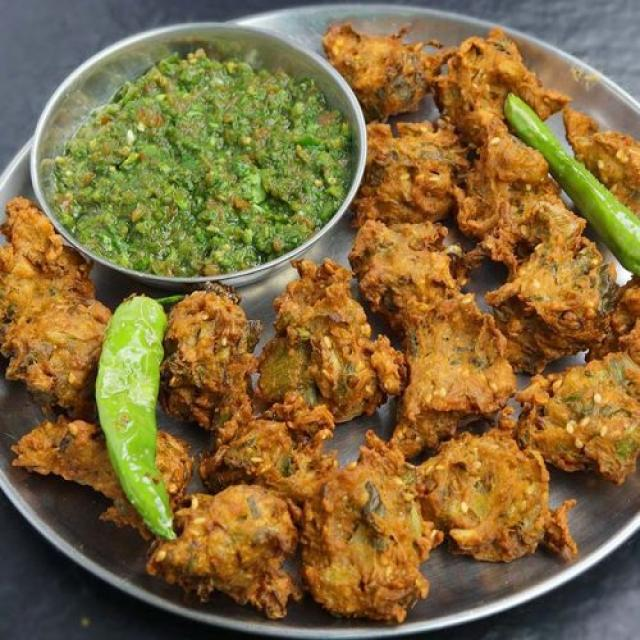BAJI: (370, 229, 492, 447), (469, 198, 607, 370), (290, 455, 422, 623), (0, 192, 100, 411), (416, 427, 546, 570), (270, 273, 391, 425), (528, 349, 638, 489), (446, 26, 531, 180), (158, 299, 251, 439), (150, 486, 282, 582), (363, 114, 452, 214), (347, 41, 427, 104), (28, 431, 114, 489)
